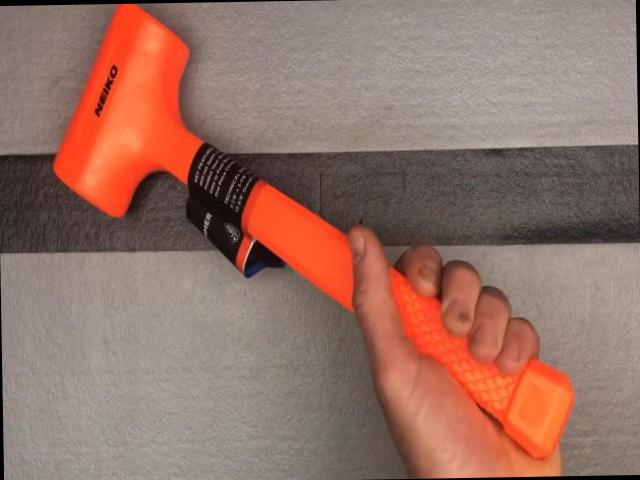hammer: (49, 0, 576, 466)
